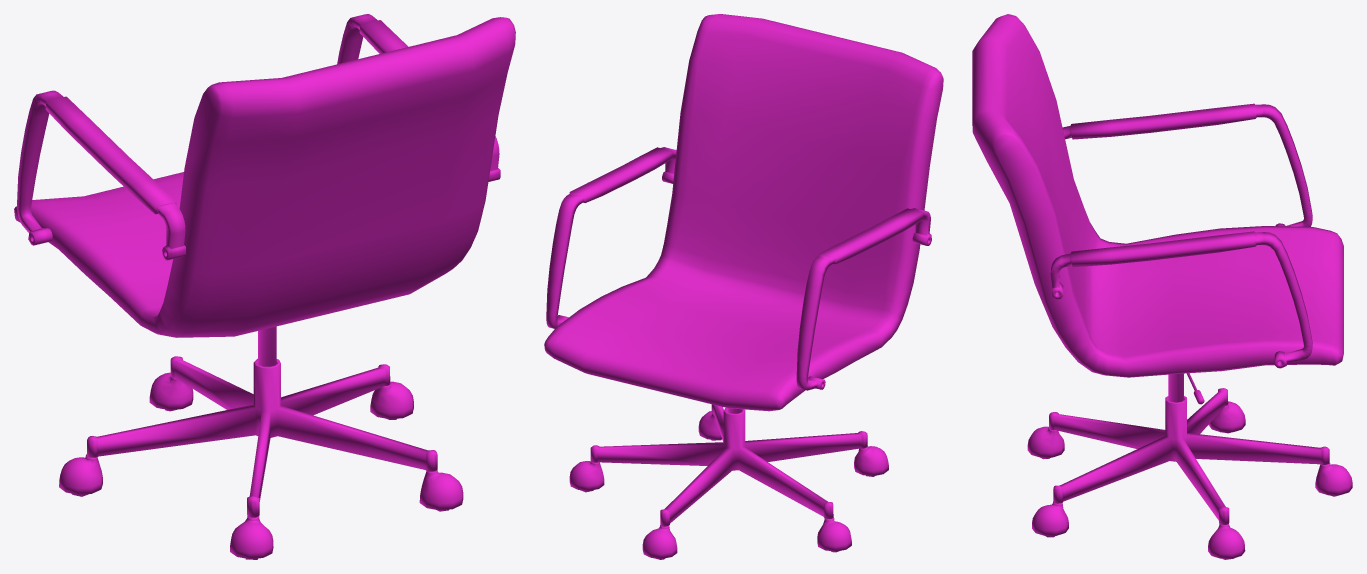
The model's file is schreibtischstuhl23112019_lowpoly.fbx.
3 renders of one model, left to right at view 1: azimuth 30°, elevation 25°; view 2: azimuth 150°, elevation 25°; view 3: azimuth 270°, elevation 25°, orthographic. The views are drawn at different scales.
Parts seen in each view (by area): view 1: Cylinder; view 2: Cylinder; view 3: Cylinder.
Part boxes in pixels (bbox=[...]): Cylinder: bbox=[14, 14, 515, 559]; Cylinder: bbox=[544, 14, 943, 559]; Cylinder: bbox=[972, 14, 1352, 559].
Bounding box in the file's own units: 234 × 325 × 266.
